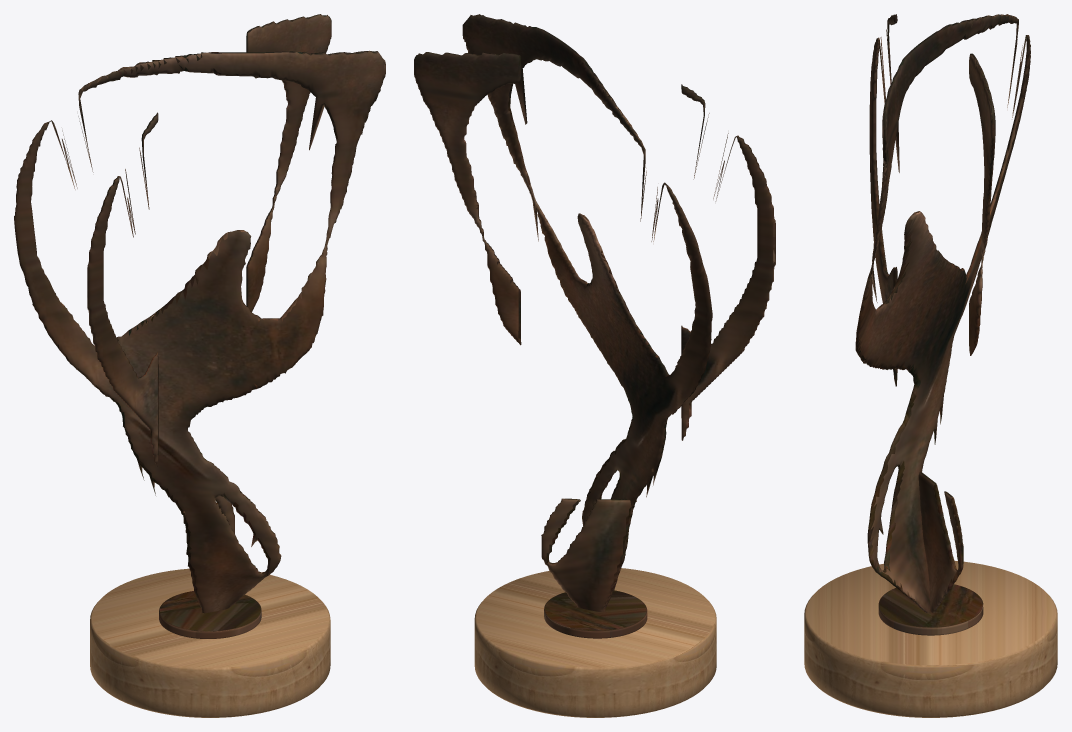
Rendered from escultura-esc-053.glb.
The picture shows the model from 3 angles, left to right: view 1: azimuth 30°, elevation 25°; view 2: azimuth 150°, elevation 25°; view 3: azimuth 270°, elevation 25°; orthographic projection. The views are drawn at different scales.
Parts seen in each view (by area): view 1: world; view 2: world; view 3: world.
Boxes of the visible parts, x1,y1,x2,y2 form: world: (14,14,385,717); world: (414,14,775,717); world: (804,14,1057,717).
Bounding box in the file's own units: 0.3162 × 0.5989 × 0.2142.
1 material, 1 textured.
